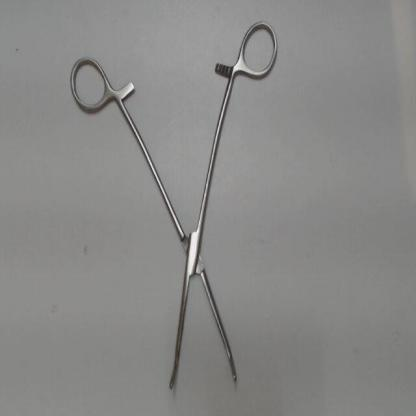Lahey Forceps: (62, 13, 282, 393)
